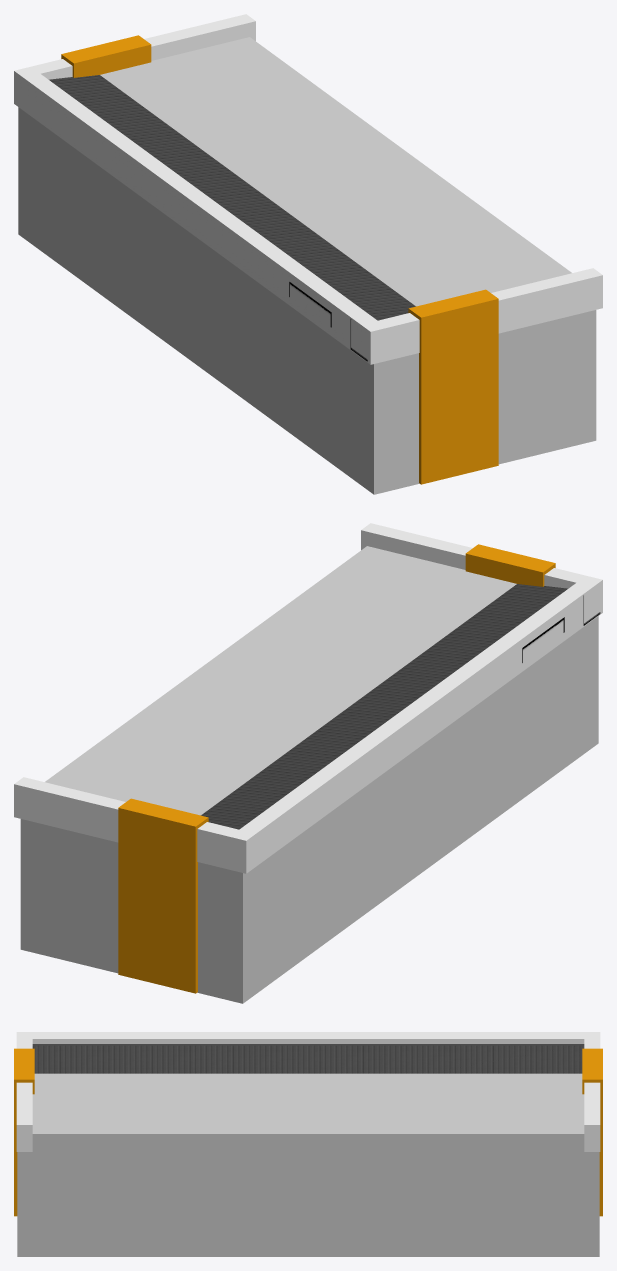
The model's file is carwash.glb.
3 views of the same model, one above another, from view 1: azimuth 30°, elevation 25°; view 2: azimuth 150°, elevation 25°; view 3: azimuth 270°, elevation 25° (orthographic). The views are drawn at different scales.
Parts seen in each view (by area): view 1: Cube.009, Line002, Rectangle140, Object072, carwash; view 2: Cube.009, Line002, Rectangle140, Object072, carwash; view 3: Cube.009, Object072, Line002, Rectangle140.
Part boxes in pixels (x1,y1,x2,y2): Cube.009: (18,37,596,494); Line002: (14,14,602,364); Rectangle140: (61,35,498,484); Object072: (49,75,415,320); carwash: (289,282,331,327); Cube.009: (20,546,598,1003); Line002: (14,523,602,873); Rectangle140: (118,544,555,993); Object072: (201,584,567,829); carwash: (522,617,564,662); Cube.009: (17,1073,599,1256); Object072: (32,1044,584,1073); Line002: (16,1032,600,1151); Rectangle140: (14,1048,602,1216).
Bounding box in the file's own units: 6.34 × 4.37 × 17.
4 materials, 2 textured.
